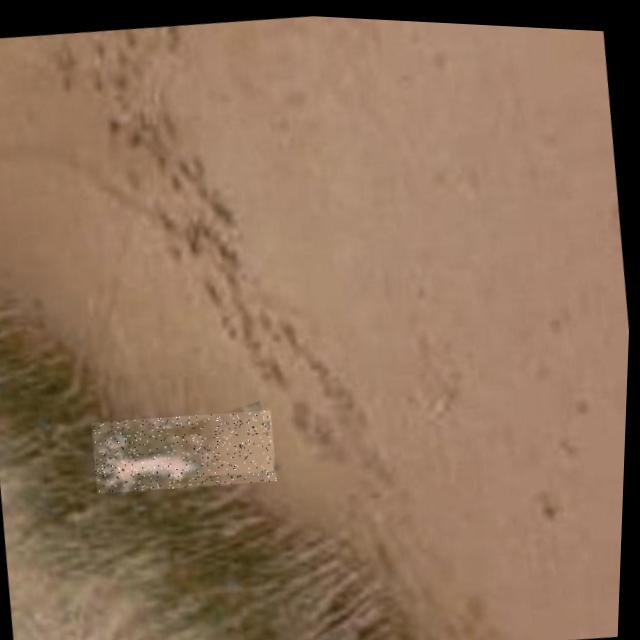Person in Rubble: (92, 398, 282, 498)
